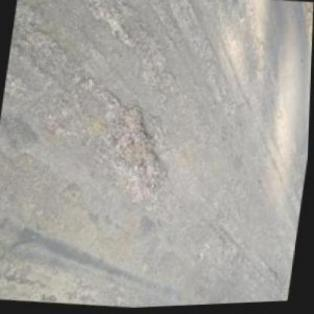Hueco: (106, 100, 171, 184)
